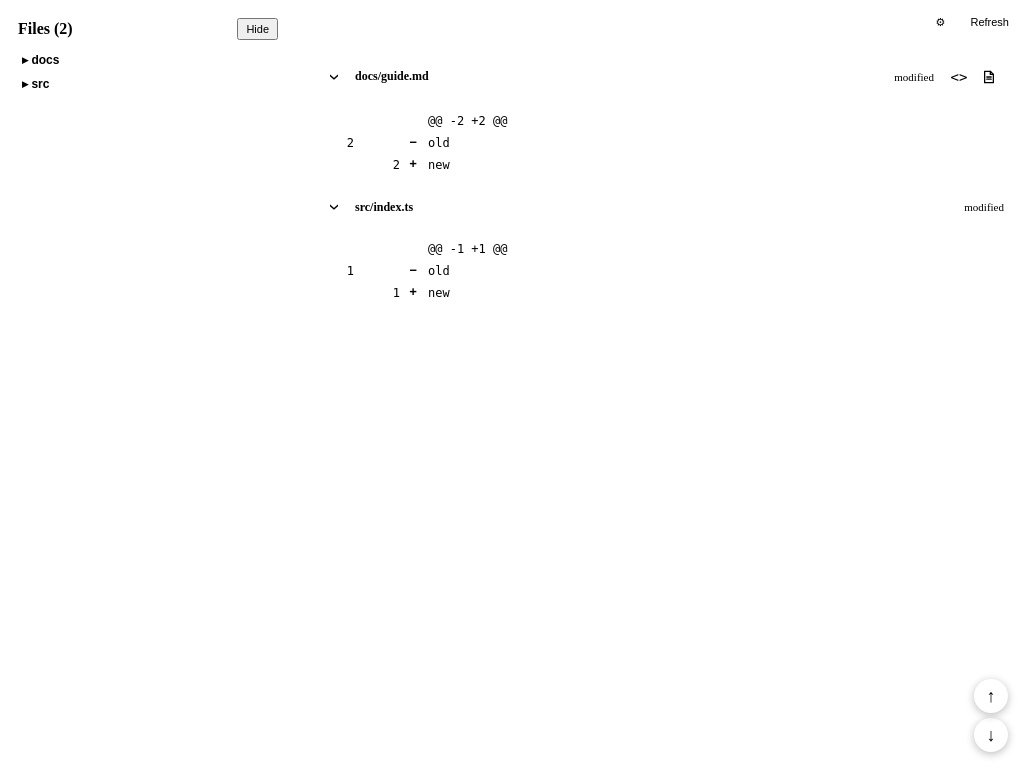
Test: ChangesPanel › persists per-file collapse state and skips rendering its body while collapsed
Expected: the icon with class "diff-collapse-icon" next to "docs/guide.md" reads "›", 325,73 -> 347,80
Click the button named "Collapse diff for docs/guide.md" at (336, 76), box 325,66 -> 347,88
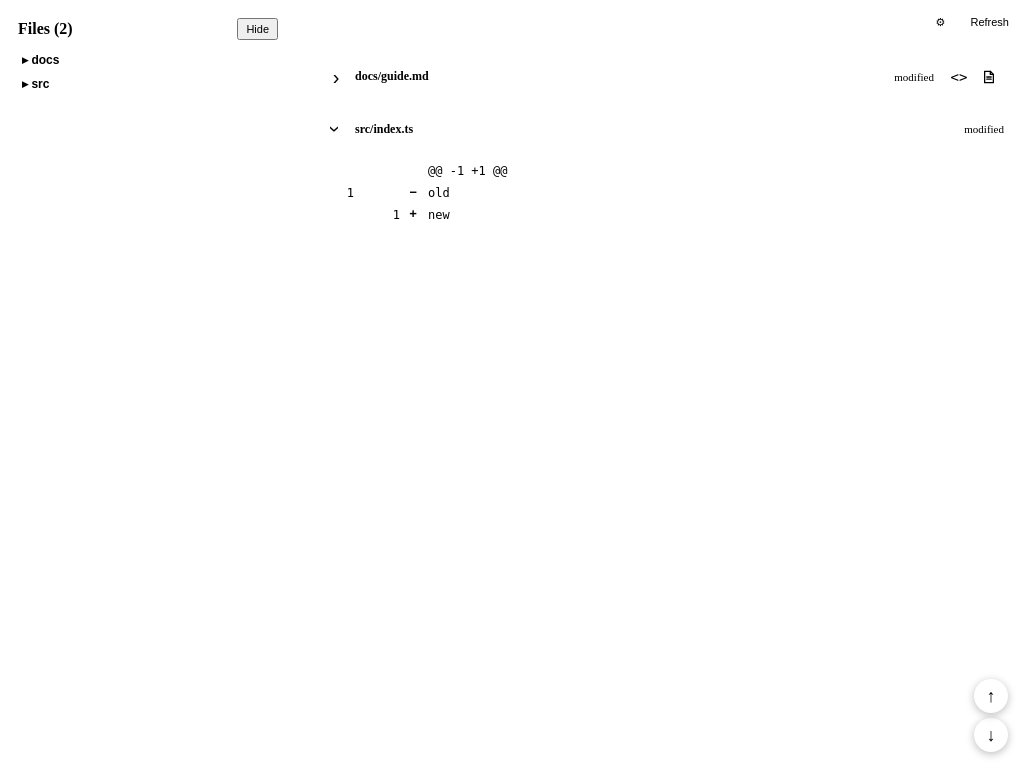
Result: the button named "Collapse diff for docs/guide.md" is collapsed at 325,66 -> 347,88
Result: the text "@@ -2 +2 @@ 2 − old 2 + new" is gone
